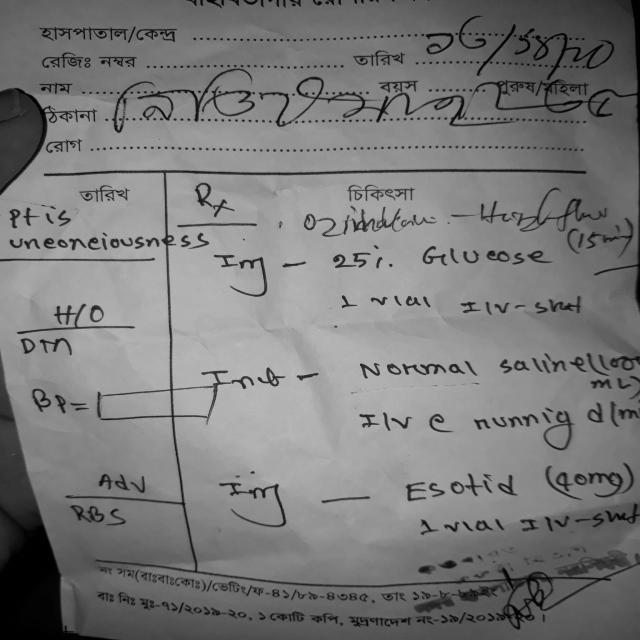medicine: (348, 350, 591, 384), (394, 471, 524, 506), (414, 241, 560, 272)
